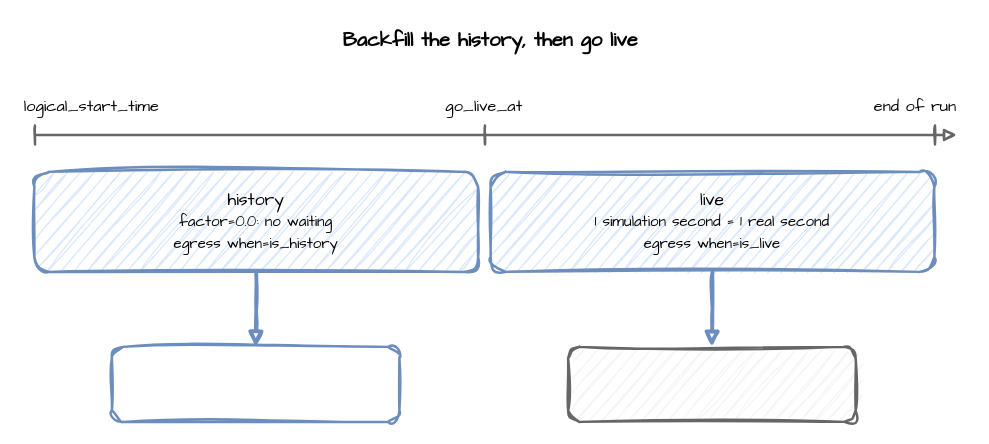
Image size: 989x444. Some labels were removed from this diagram. The box of each missing label's shape, as (x1, y1, x2, y2) in pixels:
Kafka records as they happen: (566, 345, 856, 422)
Parquet the backdated history: (110, 345, 400, 422)
